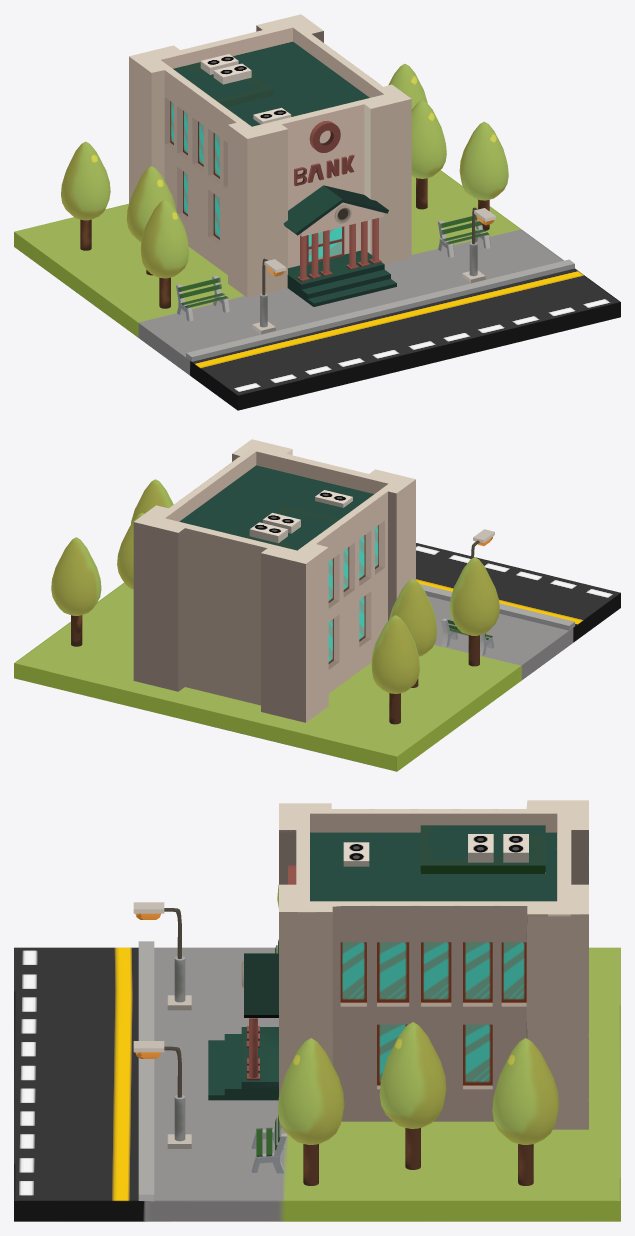
File: bank.gltf
The picture shows the model from 3 angles, top to bottom: view 1: azimuth 30°, elevation 25°; view 2: azimuth 150°, elevation 25°; view 3: azimuth 270°, elevation 25°; orthographic projection. The views are drawn at different scales.
Parts seen in each view (by area): view 1: Bank_Asset; view 2: Bank_Asset; view 3: Bank_Asset.
Part boxes in pixels (x1,y1,x2,y2): Bank_Asset: [14, 14, 620, 410]; Bank_Asset: [14, 439, 620, 771]; Bank_Asset: [14, 800, 620, 1221].
Bounding box in the file's own units: 148 × 64.4 × 150.
Materials: 1 (1 with a texture image).
